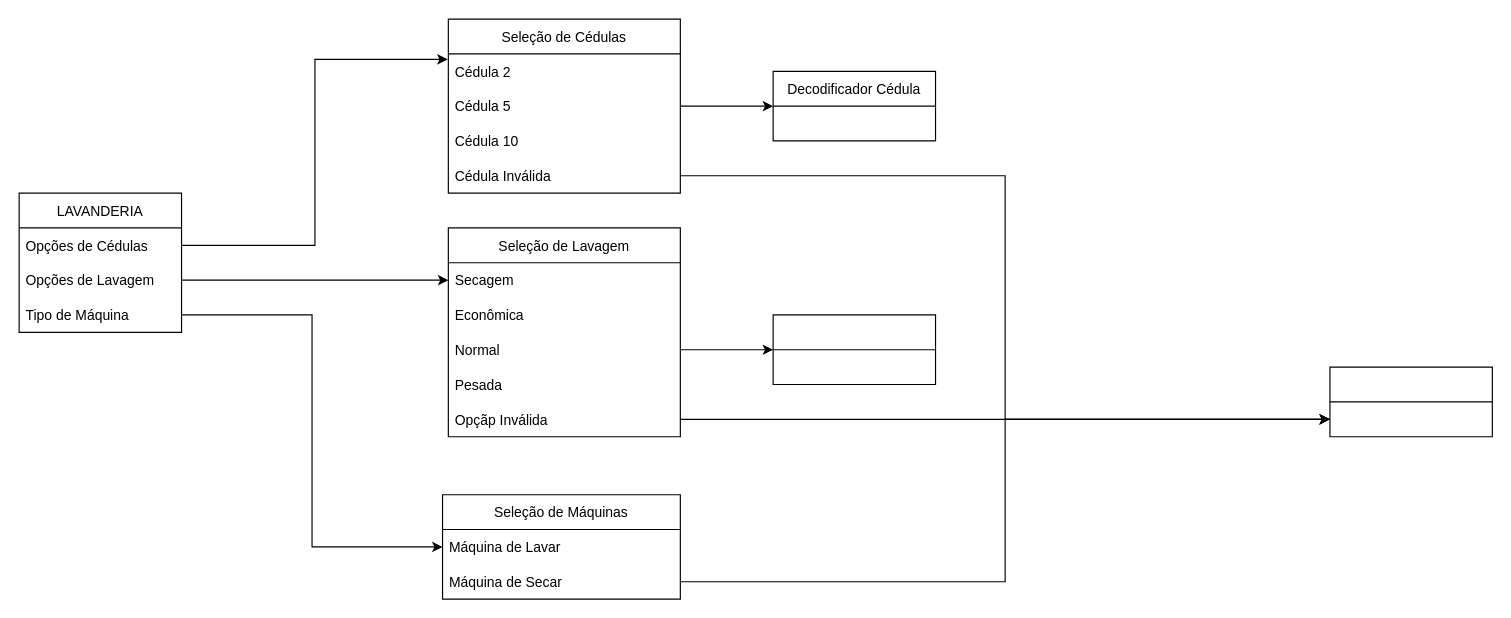
The diagram is 1511 pixels wide and 618 high, and some of its shapes have lost their labels. The centre of each missing label's shape, as x and y in pixels:
Decodificador Modo Lavagem: (854,349)
Liberador de Máquina: (1410,401)
